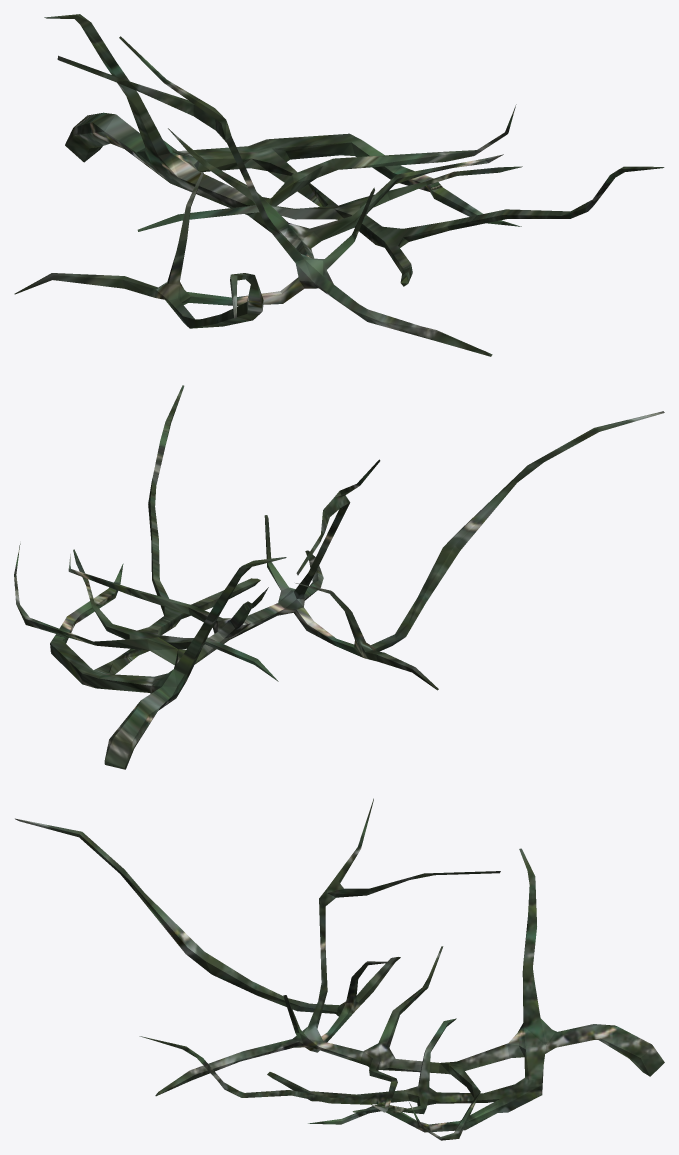
Rendered from TheOctagon_Floor_0_Tree.gltf.
3 renders of one model, top to bottom at view 1: azimuth 30°, elevation 25°; view 2: azimuth 150°, elevation 25°; view 3: azimuth 270°, elevation 25°, orthographic. The views are drawn at different scales.
Visible parts, largest first — view 1: TheOctagon_Floor_0_Tree; view 2: TheOctagon_Floor_0_Tree; view 3: TheOctagon_Floor_0_Tree.
Boxes of the visible parts, x1=… form: TheOctagon_Floor_0_Tree: x1=14, y1=14, x2=664, y2=356; TheOctagon_Floor_0_Tree: x1=14, y1=385, x2=664, y2=769; TheOctagon_Floor_0_Tree: x1=15, y1=798, x2=664, y2=1140.
Size of the model in its own units: 27.64 by 14.14 by 37.54.
Materials: 1 (1 with a texture image).
